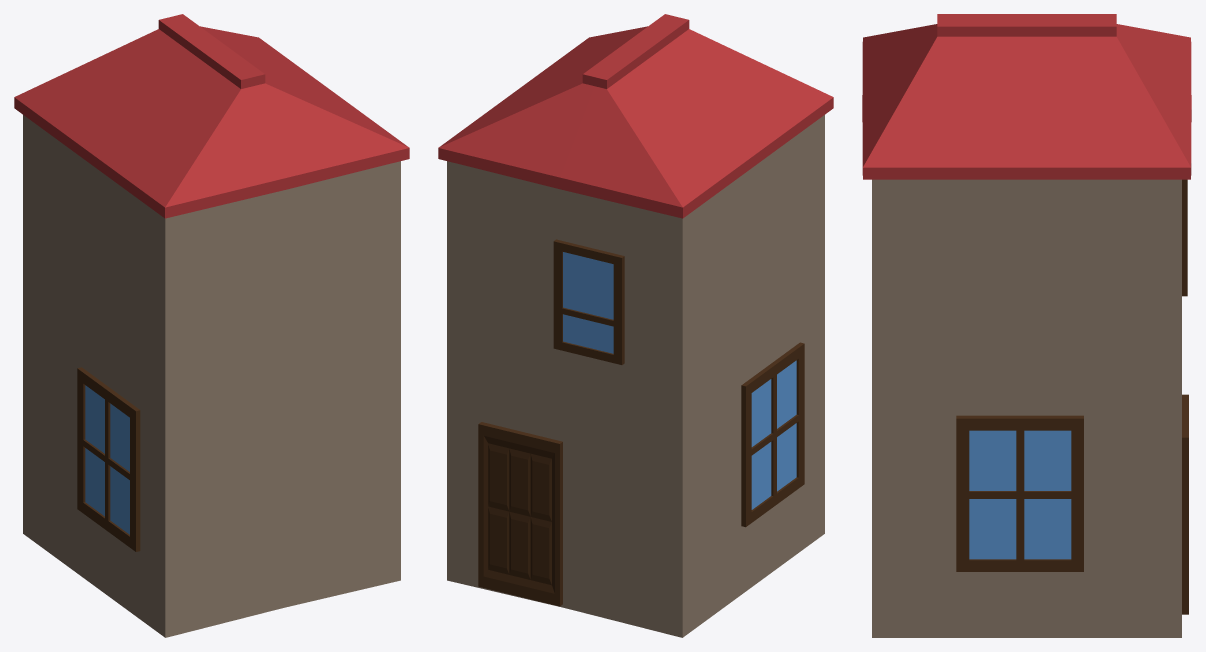
Rendered from House3.fbx.
3 views of the same model, side by side, from view 1: azimuth 30°, elevation 25°; view 2: azimuth 150°, elevation 25°; view 3: azimuth 270°, elevation 25° (orthographic). The views are drawn at different scales.
Parts seen in each view (by area): view 1: Casa3, VentanaGrande.001; view 2: Casa3, Puerta, VentanaGrande.001, VentanaChica; view 3: Casa3, VentanaGrande, Puerta, VentanaChica.
Boxes of the visible parts, x1=… form: Casa3: x1=14, y1=14, x2=409, y2=637; VentanaGrande.001: x1=77, y1=367, x2=140, y2=551; Casa3: x1=438, y1=14, x2=833, y2=637; Puerta: x1=478, y1=422, x2=562, y2=606; VentanaGrande.001: x1=741, y1=342, x2=804, y2=527; VentanaChica: x1=553, y1=239, x2=624, y2=364; Casa3: x1=862, y1=14, x2=1191, y2=637; VentanaGrande: x1=956, y1=415, x2=1083, y2=571; Puerta: x1=1182, y1=394, x2=1188, y2=614; VentanaChica: x1=1182, y1=179, x2=1187, y2=296.
Size of the model in its own units: 1213 by 2403 by 1291.
